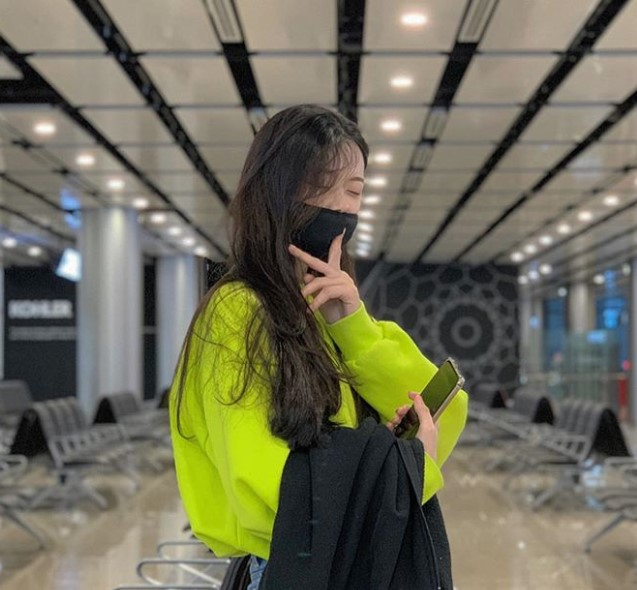face_with_mask: (261, 107, 375, 274)
